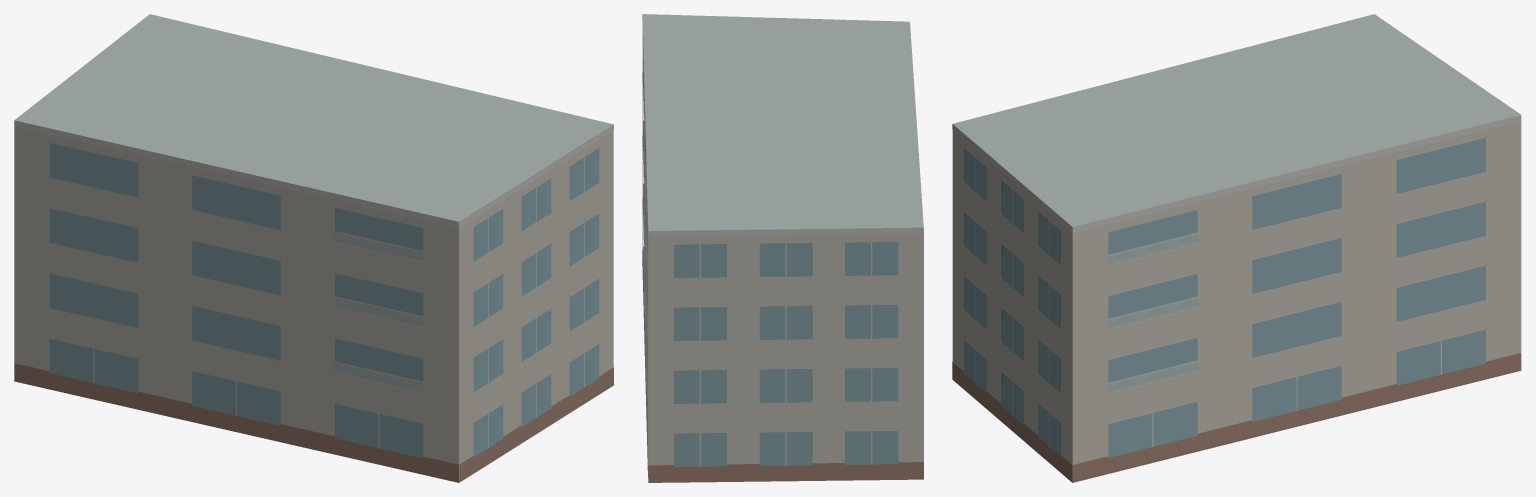
The model's file is survey-upis-32937677.glb.
3 views of the same model, side by side, from view 1: azimuth 30°, elevation 25°; view 2: azimuth 150°, elevation 25°; view 3: azimuth 270°, elevation 25° (orthographic). The views are drawn at different scales.
Parts seen in each view (by area): view 1: survey-upis-32937677.tmp; view 2: survey-upis-32937677.tmp; view 3: survey-upis-32937677.tmp.
Boxes of the visible parts, box(x1,y1,x2,y2) form: survey-upis-32937677.tmp: box(14, 14, 613, 482); survey-upis-32937677.tmp: box(642, 14, 923, 482); survey-upis-32937677.tmp: box(952, 14, 1521, 482).
Bounding box in the file's own units: 18.58 × 10.4 × 20.96.
